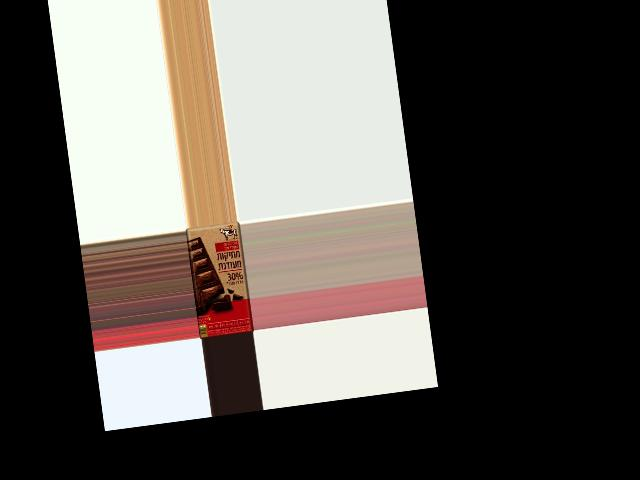chocolate: (185, 221, 254, 338)
